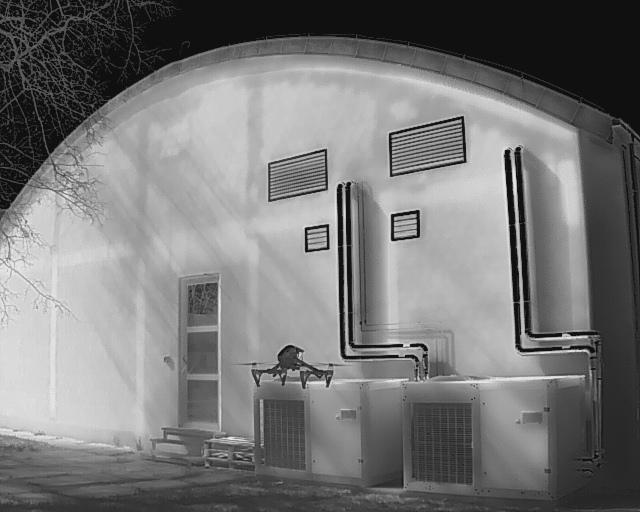drone: (238, 338, 355, 397)
